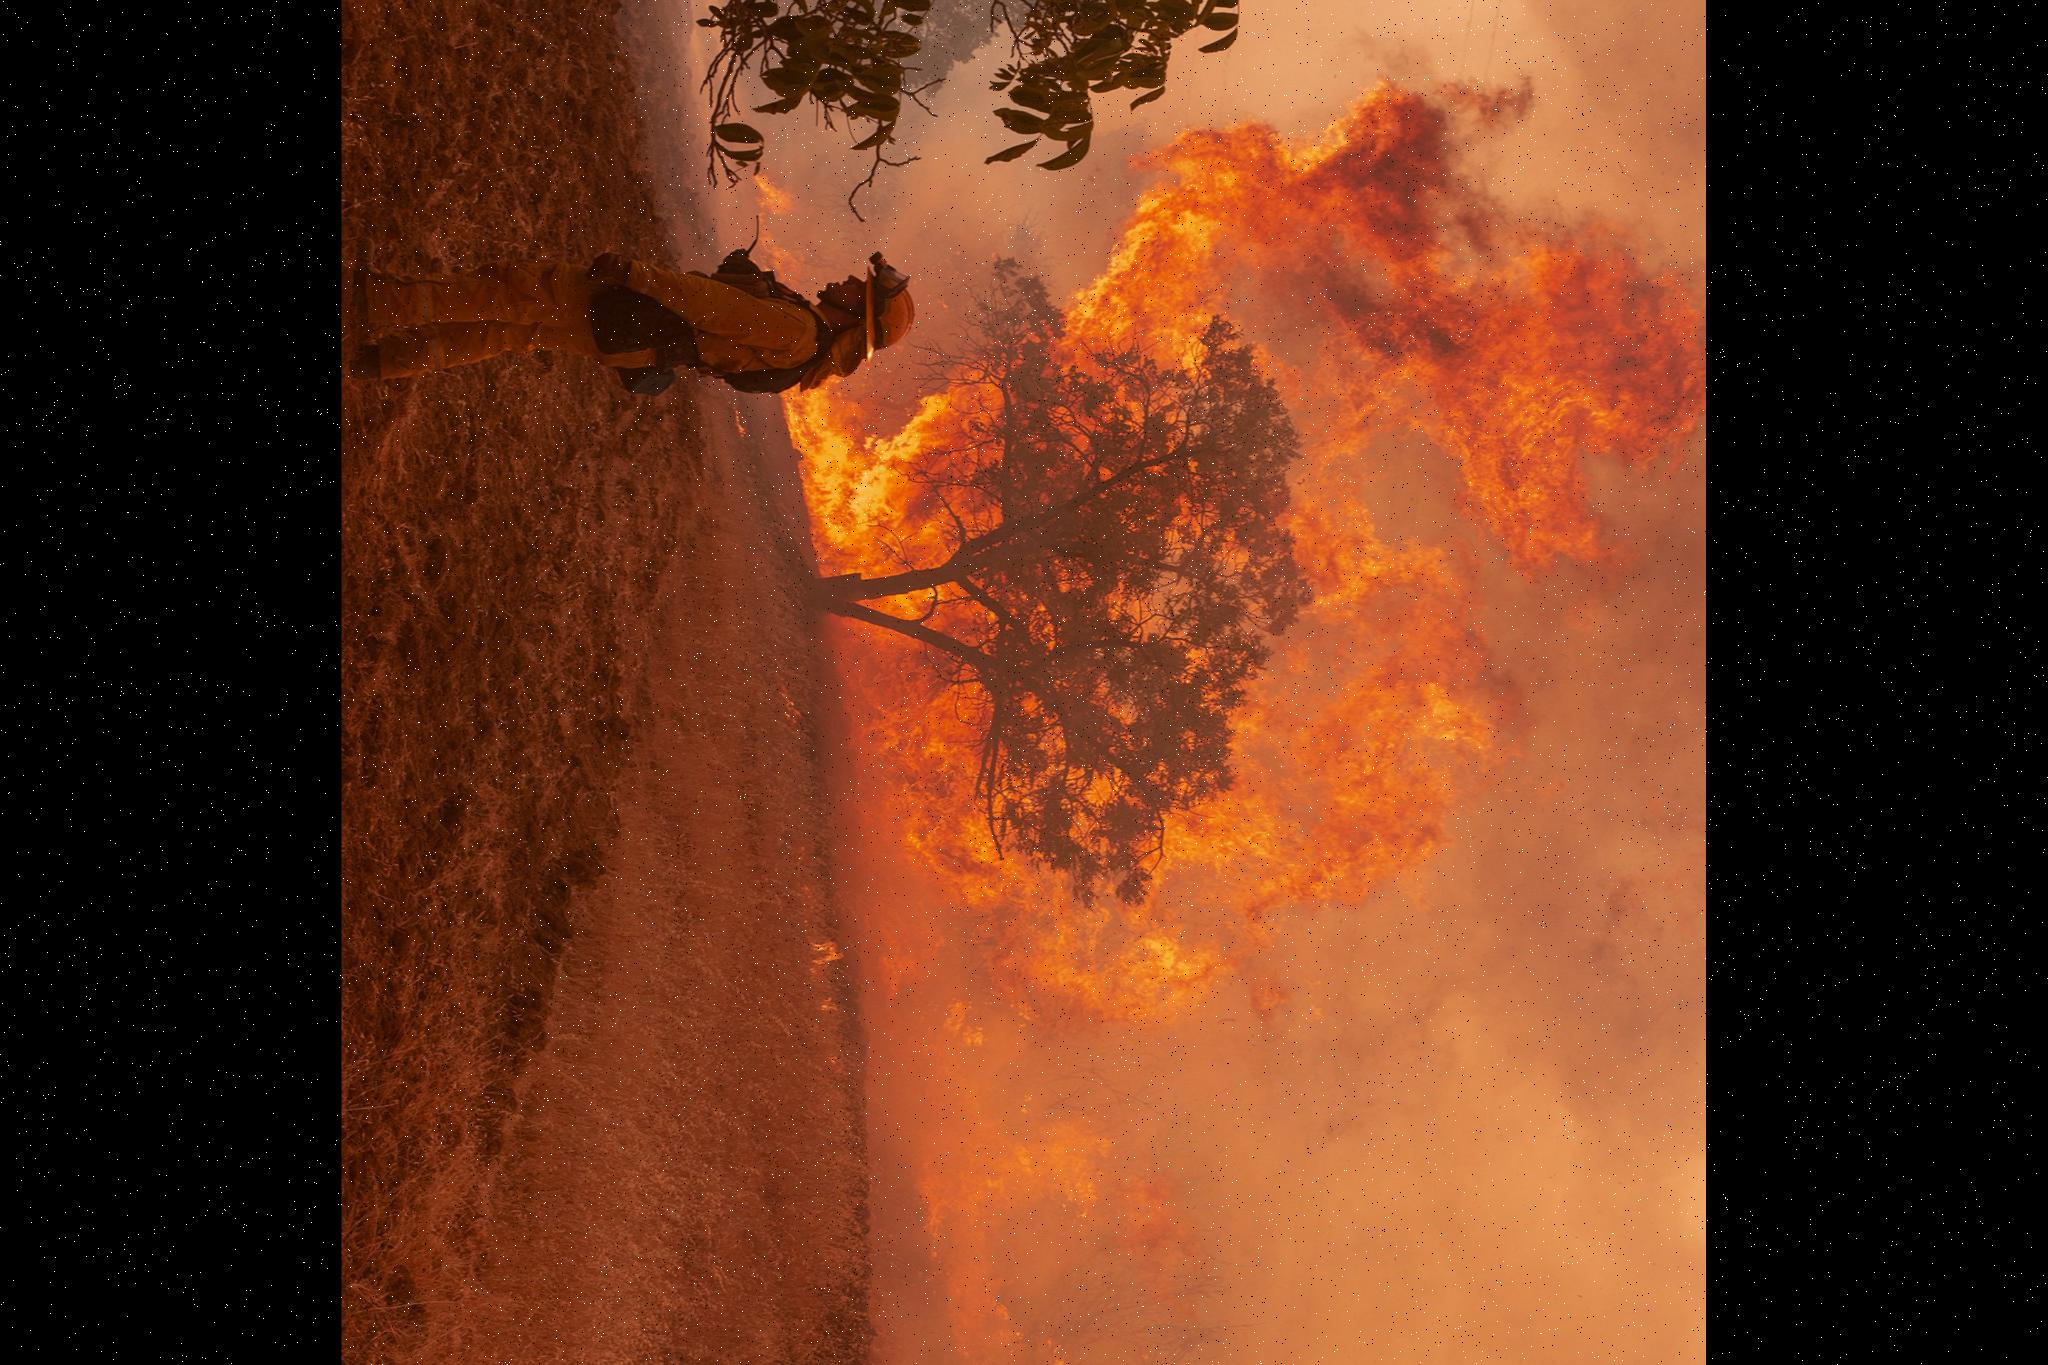fire: (757, 82, 1707, 1178)
